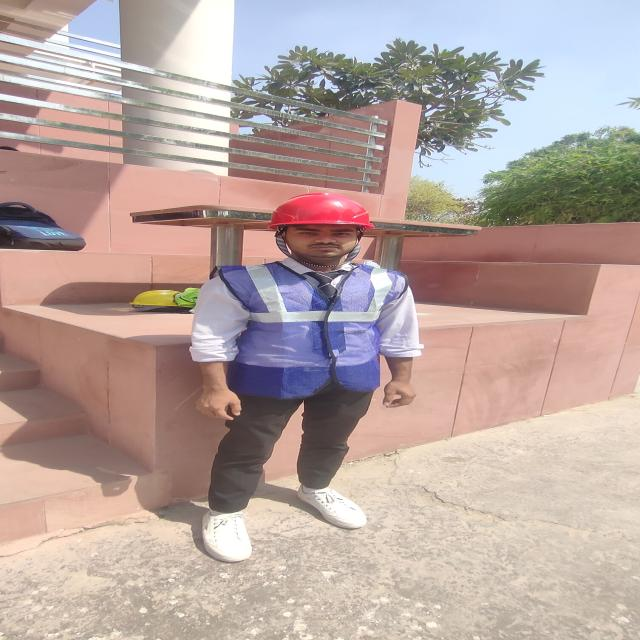safe: (192, 193, 418, 561)
